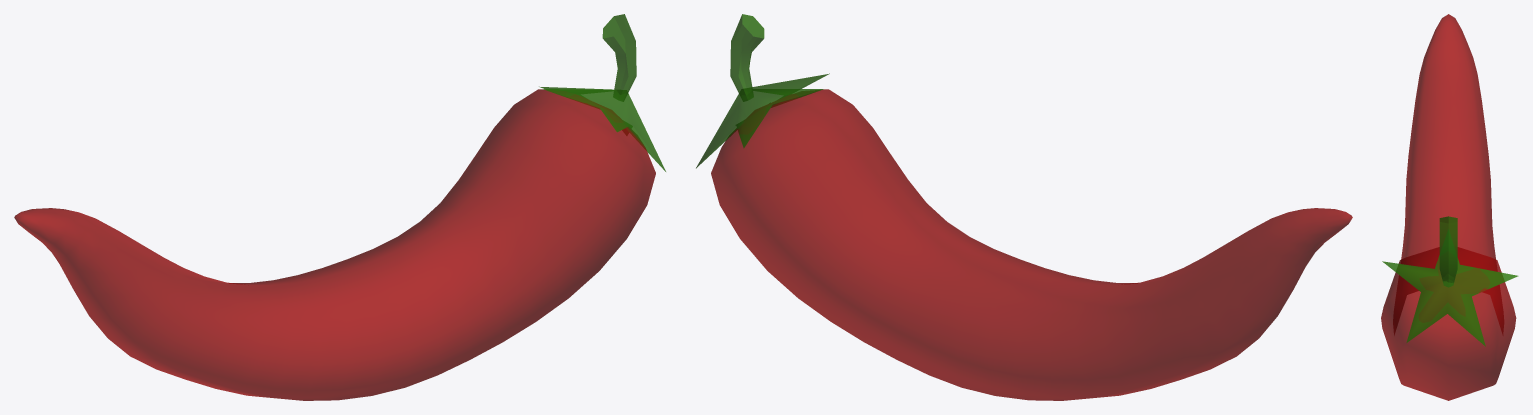
The model's file is GhostPepper.fbx.
3 renders of one model, left to right at view 1: azimuth 30°, elevation 25°; view 2: azimuth 150°, elevation 25°; view 3: azimuth 270°, elevation 25°, orthographic. The views are drawn at different scales.
Parts seen in each view (by area): view 1: Pepper_Geo, Leaves_Geo, Stem_Geo; view 2: Pepper_Geo, Leaves_Geo, Stem_Geo; view 3: Pepper_Geo, Leaves_Geo, Stem_Geo.
Boxes of the visible parts, left/top/right/bottom form: Pepper_Geo: left=14, top=89, right=655, bottom=400; Leaves_Geo: left=539, top=86, right=665, bottom=171; Stem_Geo: left=602, top=14, right=636, bottom=101; Pepper_Geo: left=711, top=89, right=1352, bottom=400; Leaves_Geo: left=696, top=73, right=829, bottom=168; Stem_Geo: left=730, top=14, right=764, bottom=101; Pepper_Geo: left=1381, top=14, right=1516, bottom=400; Leaves_Geo: left=1382, top=255, right=1518, bottom=346; Stem_Geo: left=1439, top=216, right=1457, bottom=287.
Bounding box in the file's own units: 41.24 × 19.32 × 9.34.
